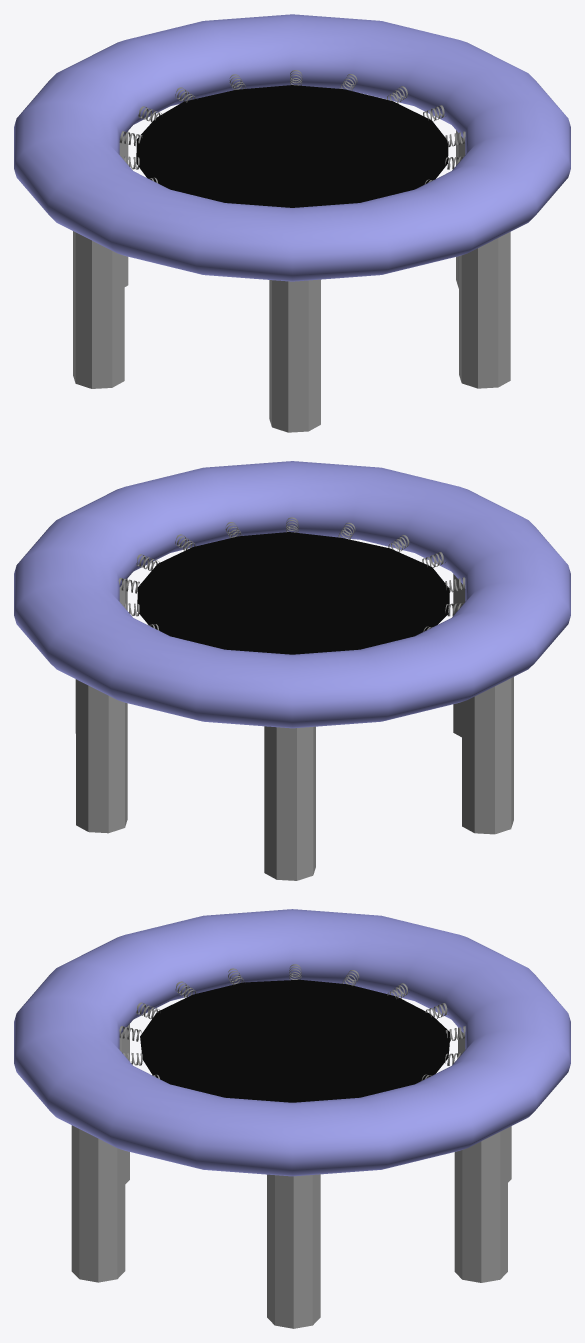
File: trampoline2.fbx
3 views of the same model, one above another, from view 1: azimuth 30°, elevation 25°; view 2: azimuth 150°, elevation 25°; view 3: azimuth 270°, elevation 25° (orthographic).
Parts seen in each view (by area): view 1: pCylinder26; view 2: pCylinder26; view 3: pCylinder26.
Boxes of the visible parts, left/top/right/bottom form: pCylinder26: left=14, top=14, right=570, bottom=432; pCylinder26: left=14, top=461, right=570, bottom=880; pCylinder26: left=14, top=909, right=570, bottom=1328.
Bounding box in the file's own units: 5.28 × 2.17 × 5.2.
